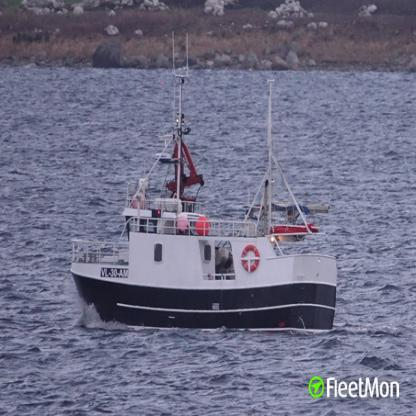Fishing Boat: (72, 32, 338, 330)
